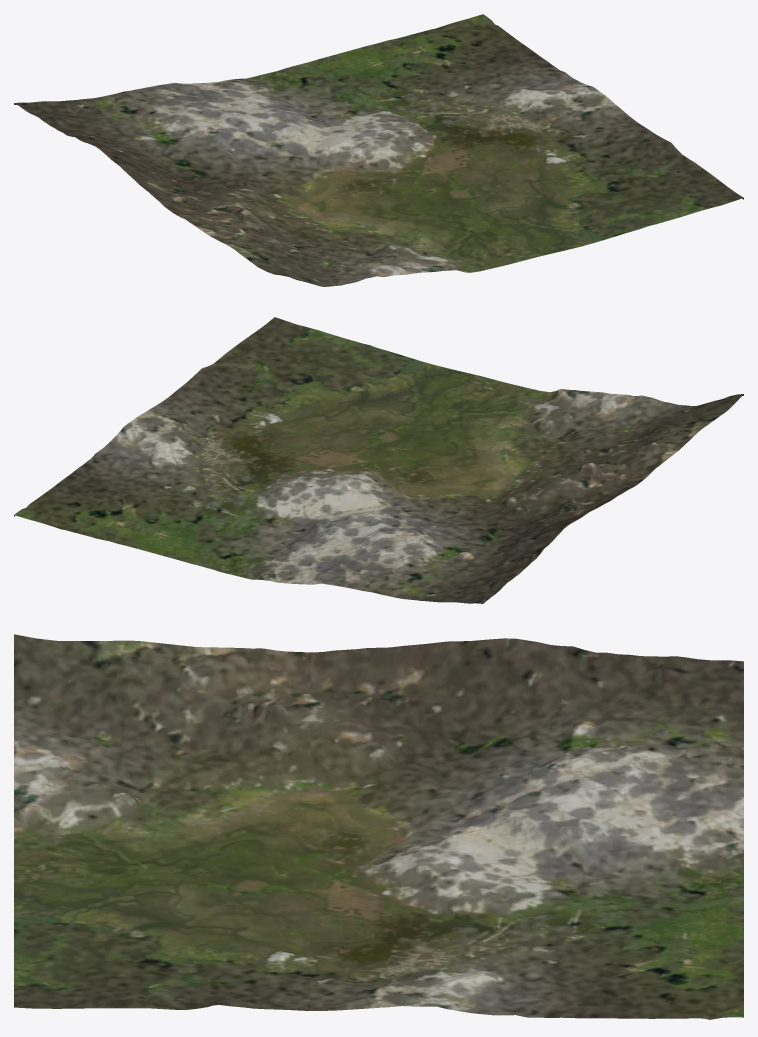
3 views of the same model, one above another, from view 1: azimuth 30°, elevation 25°; view 2: azimuth 150°, elevation 25°; view 3: azimuth 270°, elevation 25° (orthographic). The views are drawn at different scales.
Bounding box in the file's own units: 250 × 27.22 × 241.
1 material, 1 textured.
